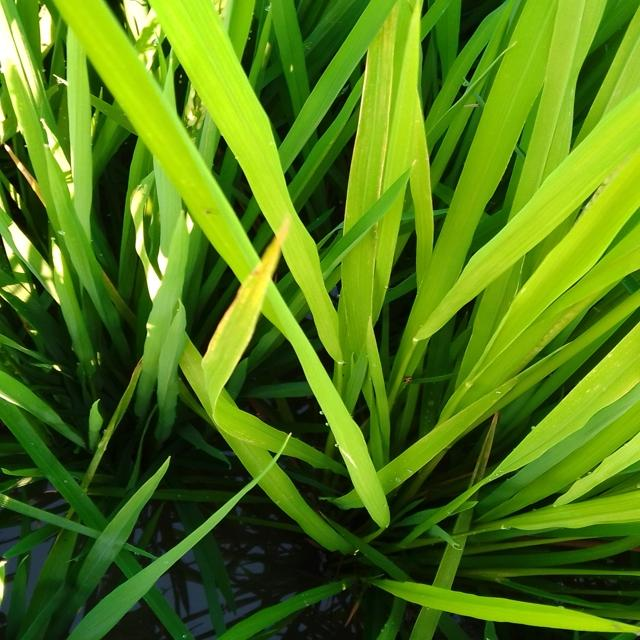Brown spot: (217, 222, 299, 365)
